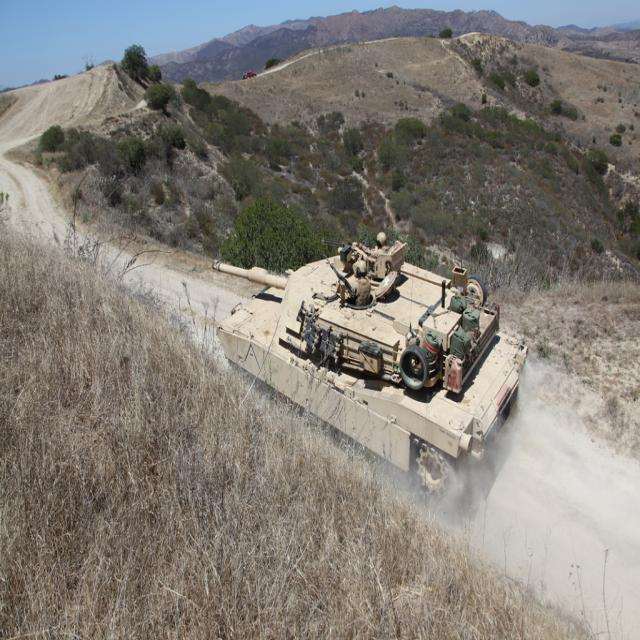tank: (213, 235, 528, 516)
